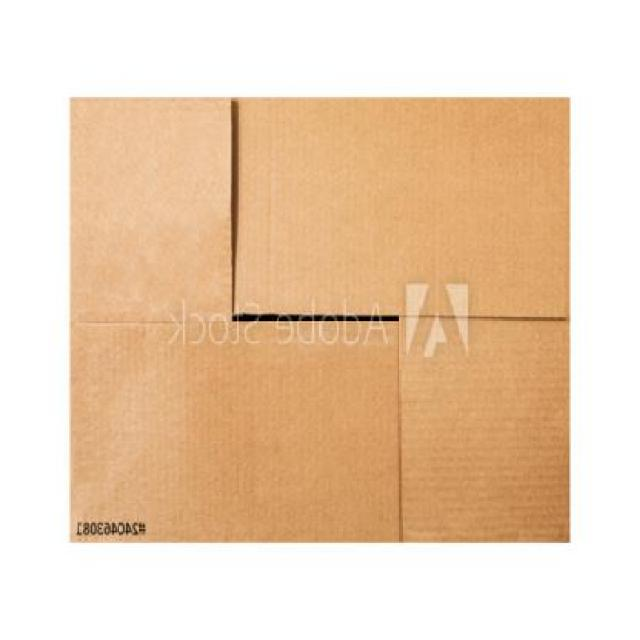cardboxes: (71, 96, 567, 542)
